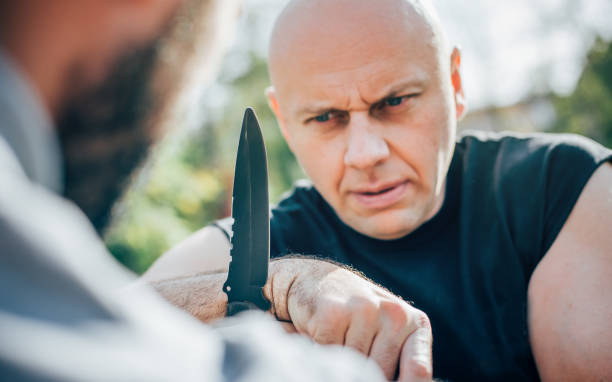knife: (221, 106, 273, 312)
